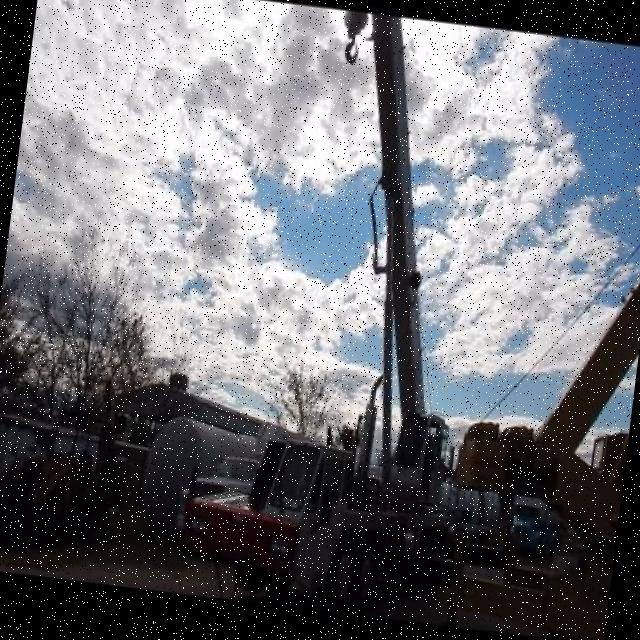Mobile Crane: (170, 0, 533, 637)
